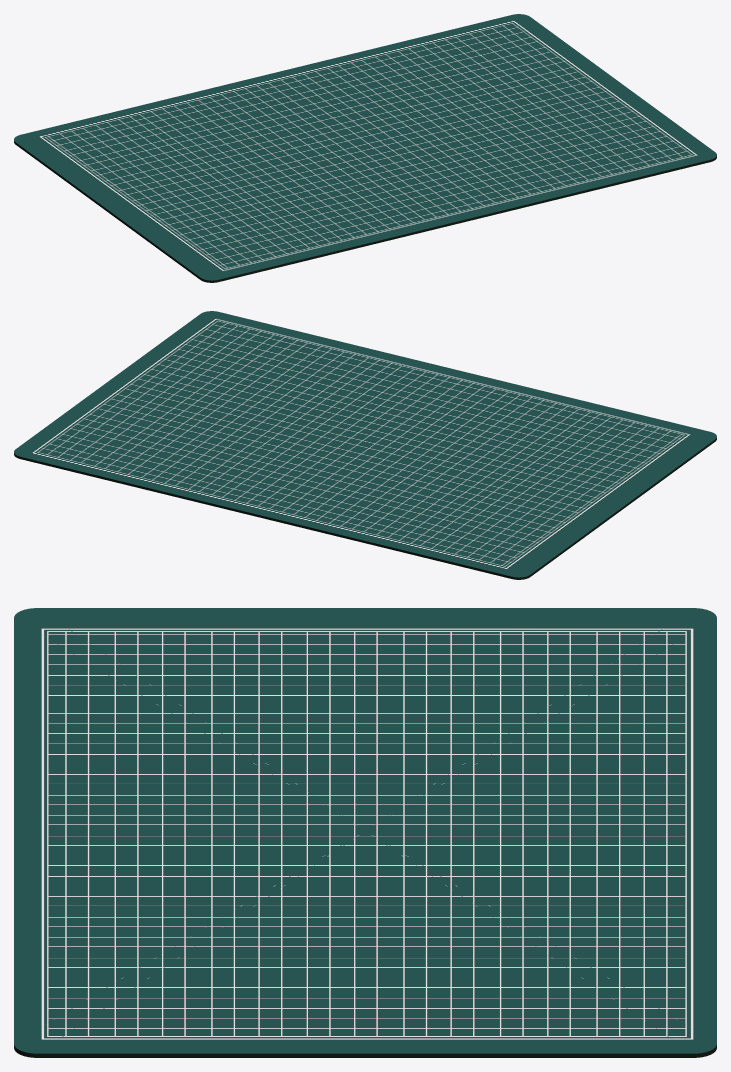
Rendered from 422_カッティングマット.glb.
3 views of the same model, one above another, from view 1: azimuth 30°, elevation 25°; view 2: azimuth 150°, elevation 25°; view 3: azimuth 270°, elevation 25° (orthographic). The views are drawn at different scales.
Parts seen in each view (by area): view 1: 422_カッティングマット; view 2: 422_カッティングマット; view 3: 422_カッティングマット.
Boxes of the visible parts, x1=… form: 422_カッティングマット: x1=14, y1=14, x2=716, y2=282; 422_カッティングマット: x1=14, y1=311, x2=716, y2=579; 422_カッティングマット: x1=14, y1=608, x2=716, y2=1057.
Size of the model in its own units: 0.45 by 0.002 by 0.3.
Materials: 2 (1 with a texture image).
